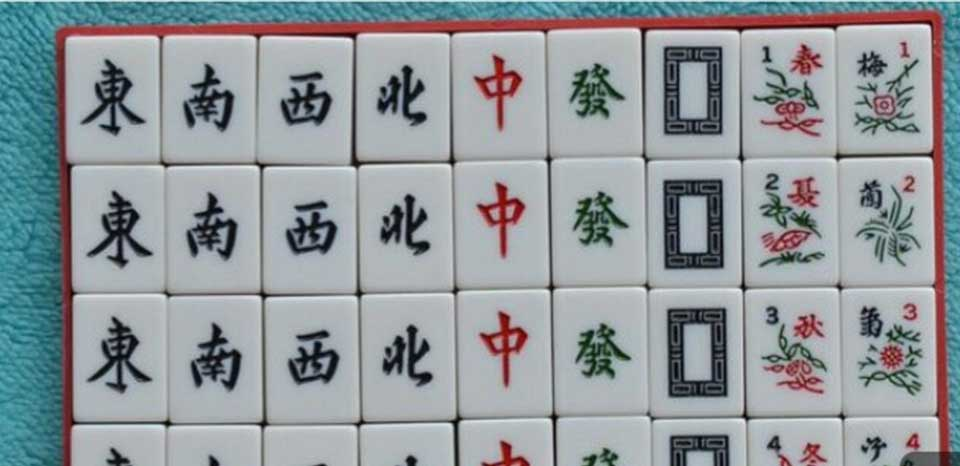honour_1: (63, 33, 161, 163)
honour_2: (170, 163, 261, 295)
honour_3: (259, 297, 359, 424)
honour_4: (357, 162, 456, 292)
honour_5: (650, 158, 738, 288)
honour_6: (549, 160, 652, 285)
honour_7: (449, 35, 550, 162)
